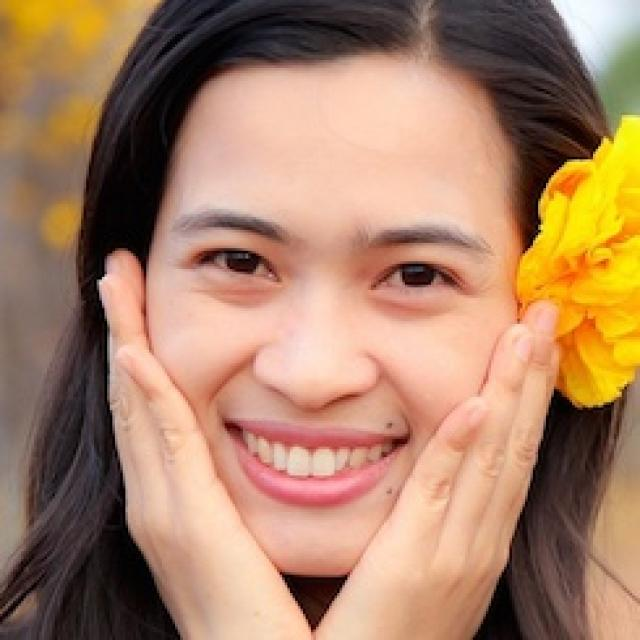Normal: (147, 52, 526, 575)
